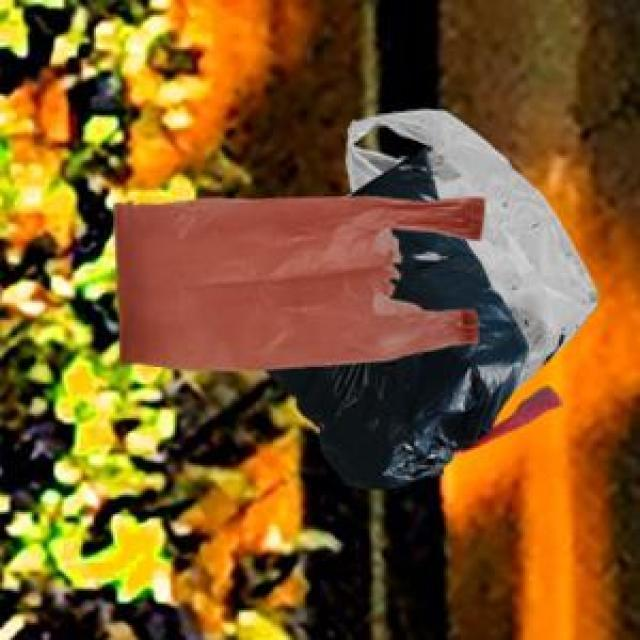miscellaneous trash: (260, 143, 557, 484)
